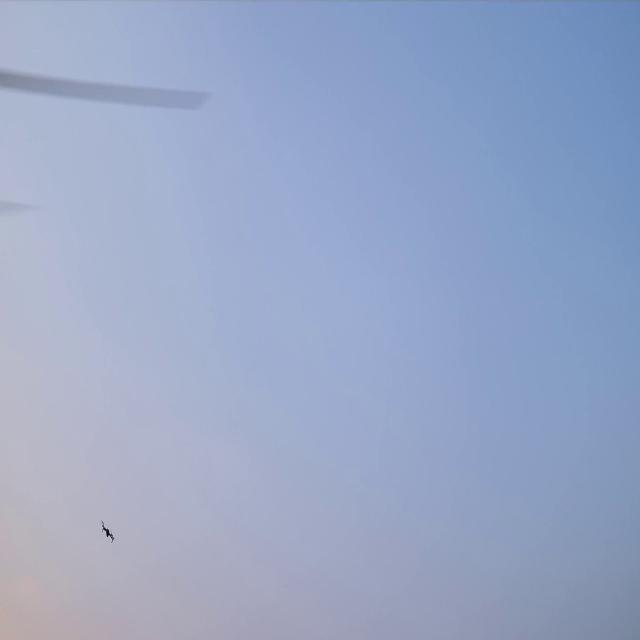UAV: (98, 517, 116, 543)
